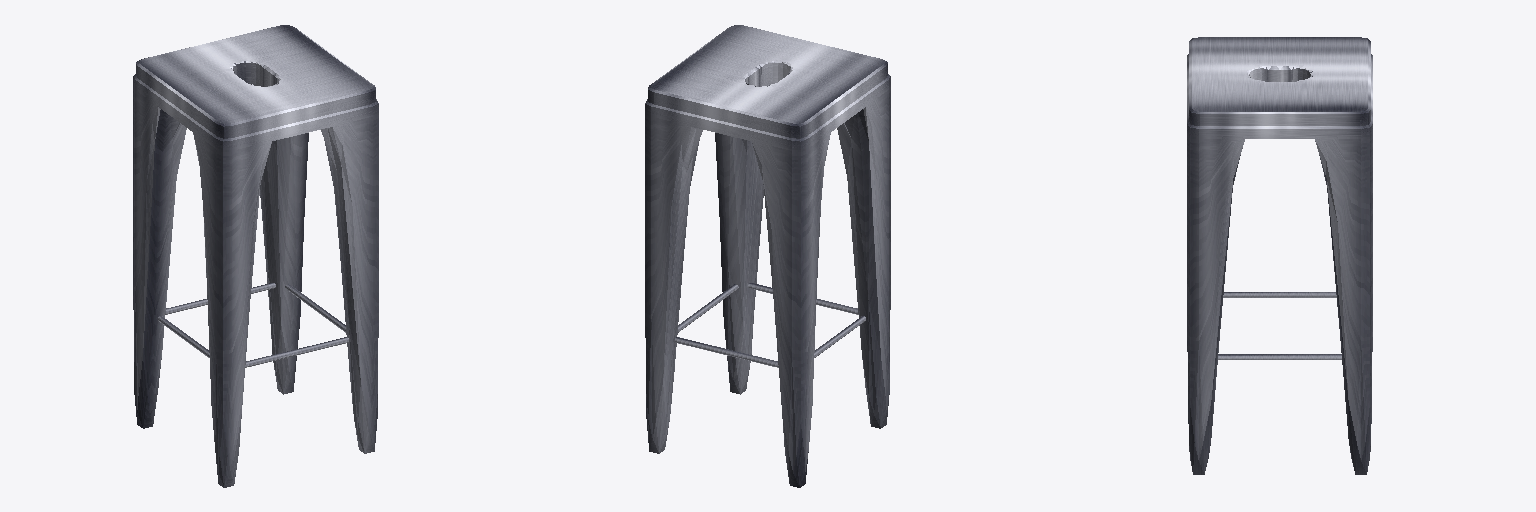
3 views of the same model, side by side, from view 1: azimuth 30°, elevation 25°; view 2: azimuth 150°, elevation 25°; view 3: azimuth 270°, elevation 25° (orthographic).
Visible parts, largest first — view 1: Box001, Cylinder03; view 2: Box001, Cylinder02; view 3: Box001, Cylinder00, Cylinder01.
Part boxes in pixels (x1,y1,x2,y2): Box001: (133, 25, 378, 487); Cylinder03: (245, 337, 348, 367); Box001: (645, 25, 890, 487); Cylinder02: (675, 337, 778, 367); Box001: (1187, 37, 1372, 474); Cylinder00: (1218, 354, 1341, 359); Cylinder01: (1223, 292, 1336, 297).
Size of the model in its own units: 10.19 by 22.07 by 10.19.
Materials: 1 (1 with a texture image).